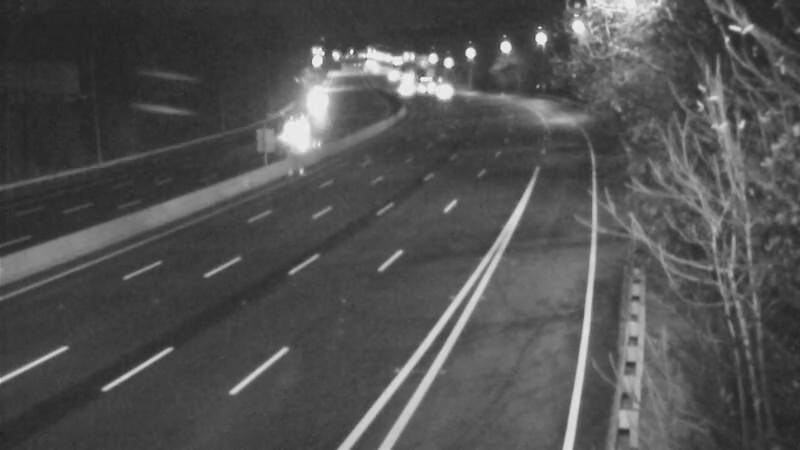vehicle: (400, 56, 450, 106), (379, 63, 429, 113), (418, 67, 468, 117), (268, 110, 318, 160), (294, 73, 344, 123)
